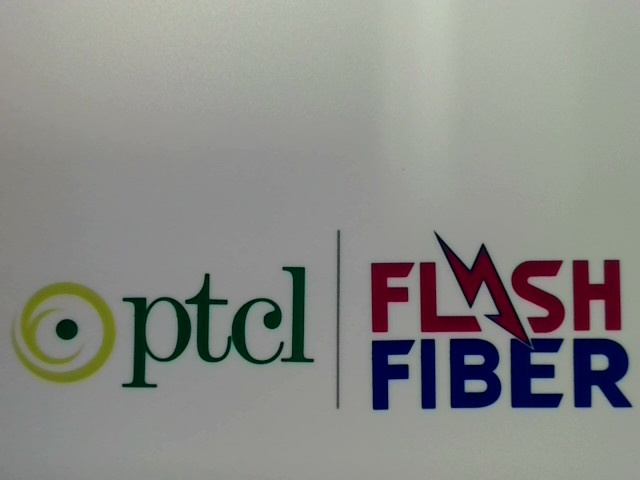BF_PTCL: (2, 257, 316, 392)
